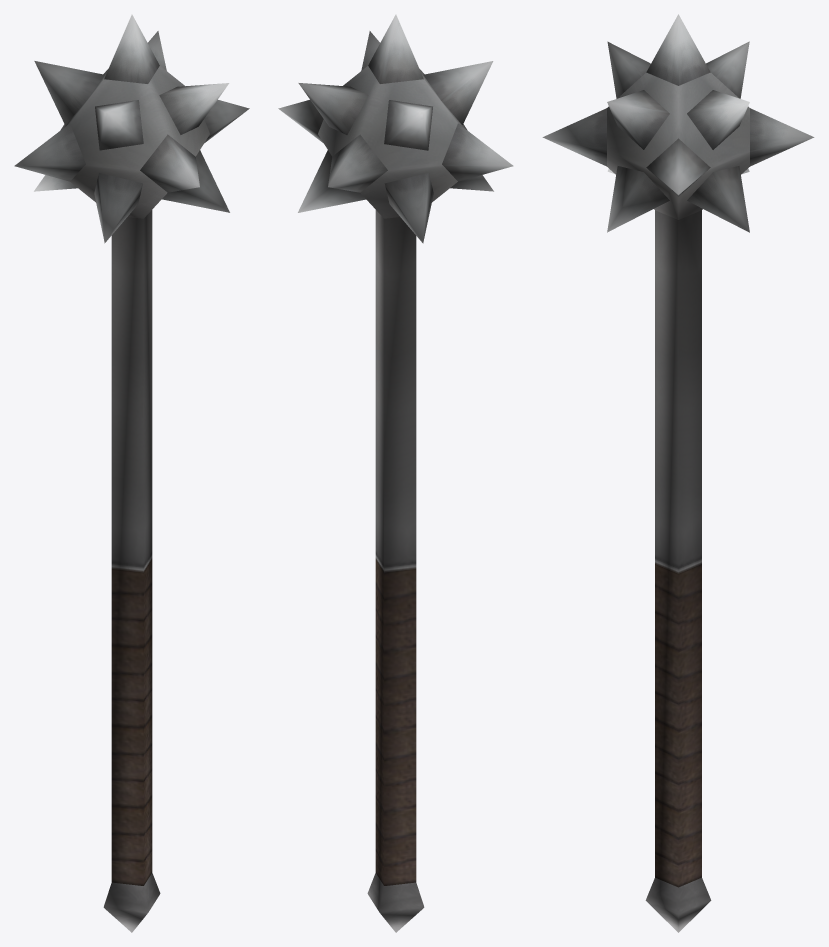
Rendered from MedievalOneHandMace.fbx.
3 renders of one model, left to right at view 1: azimuth 30°, elevation 25°; view 2: azimuth 150°, elevation 25°; view 3: azimuth 270°, elevation 25°, orthographic.
Visible parts, largest first — view 1: MedievalOneHandMace; view 2: MedievalOneHandMace; view 3: MedievalOneHandMace.
Boxes of the visible parts, x1=… form: MedievalOneHandMace: x1=14, y1=14, x2=249, y2=932; MedievalOneHandMace: x1=278, y1=14, x2=513, y2=932; MedievalOneHandMace: x1=542, y1=14, x2=814, y2=932.
Size of the model in its own units: 0.2248 by 0.8375 by 0.2248.
